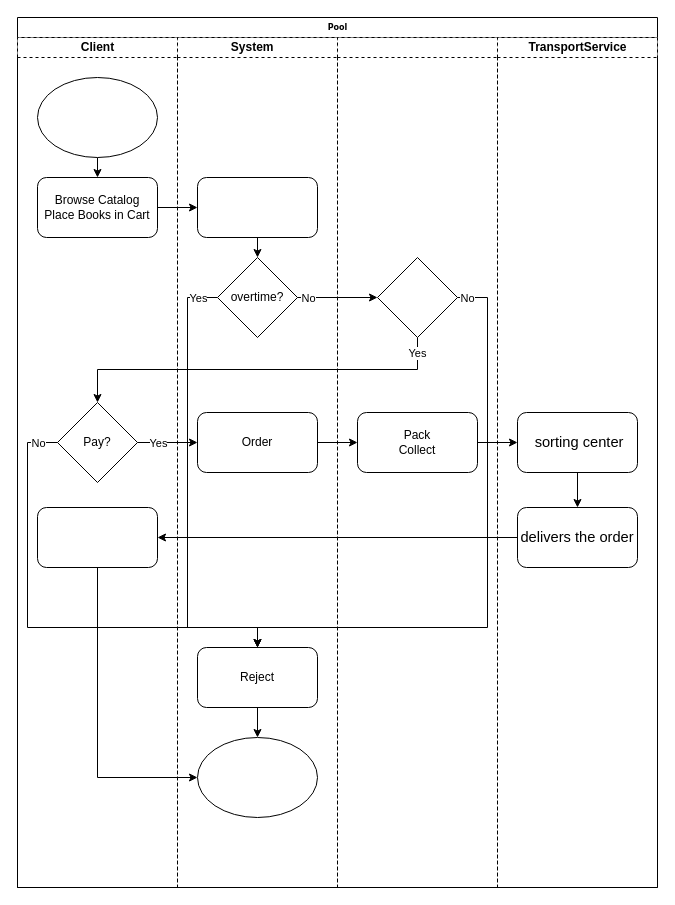
Some shapes in this 675 by 905 pixel diagram are drawn without their labels. The box of each missing label's shape, as (x1, y1, x2, y2) in pixels:
Availability?: (376, 256, 458, 338)
End: (196, 736, 318, 818)
OrderPacker: (336, 36, 498, 888)
picks up the order: (36, 506, 158, 568)
Register Order: (196, 176, 318, 238)
Start: (36, 76, 158, 158)
